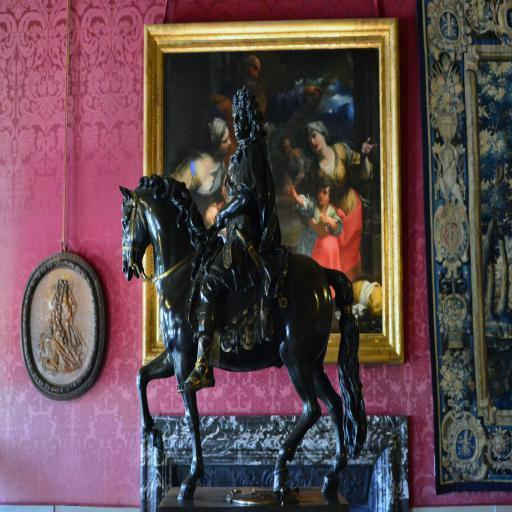horse: (116, 170, 368, 502)
